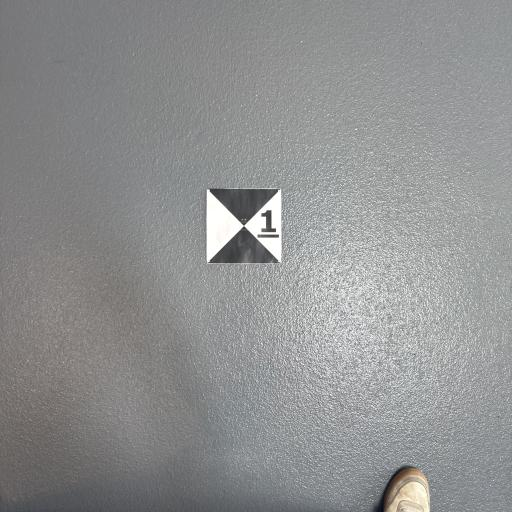target1: (203, 184, 283, 265)
